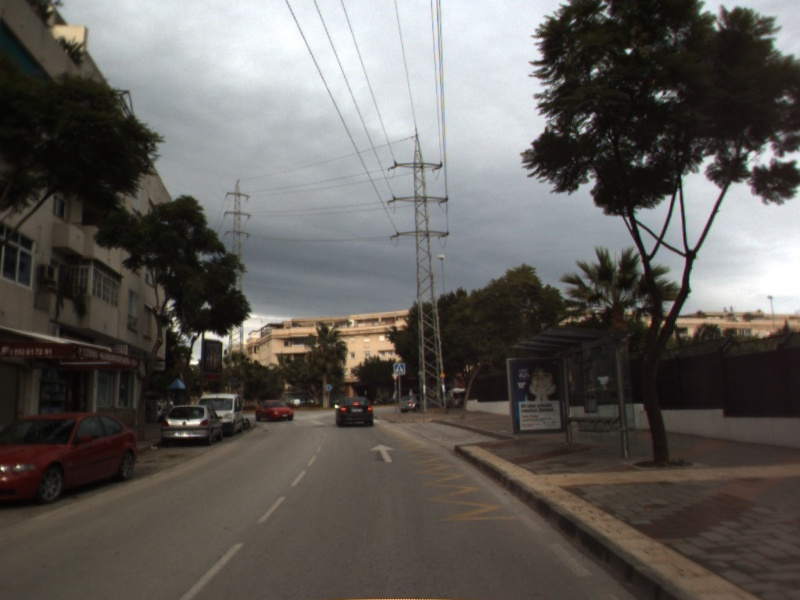STRAIGHT: (367, 441, 399, 464)
